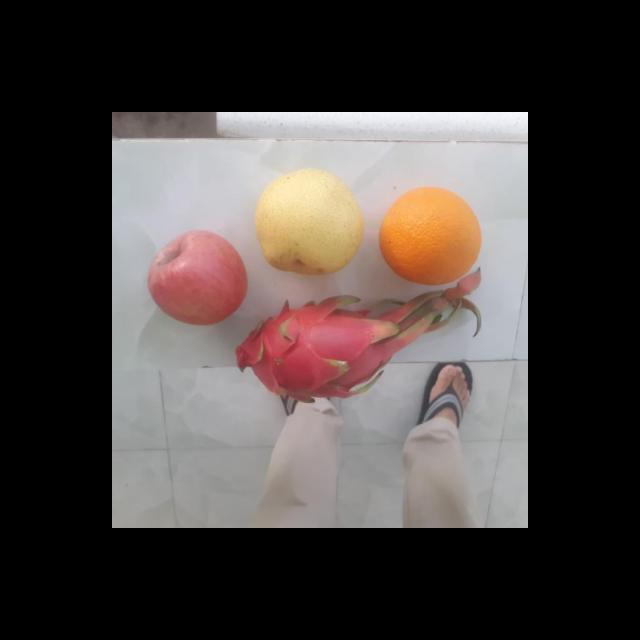apple: (144, 230, 248, 324)
orange: (377, 186, 485, 285)
pear: (248, 170, 366, 274)
pitaya: (226, 297, 390, 404)
